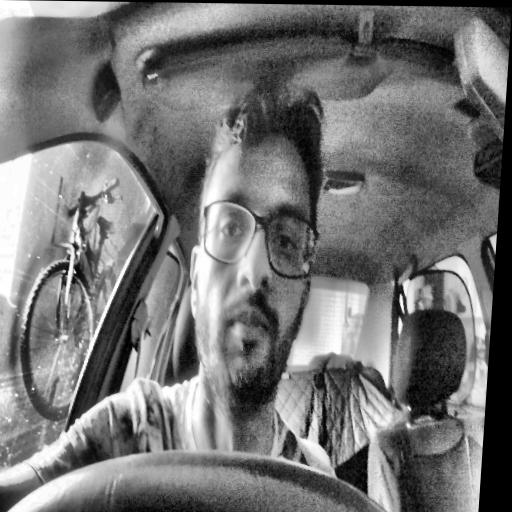awake: (180, 78, 331, 414)
